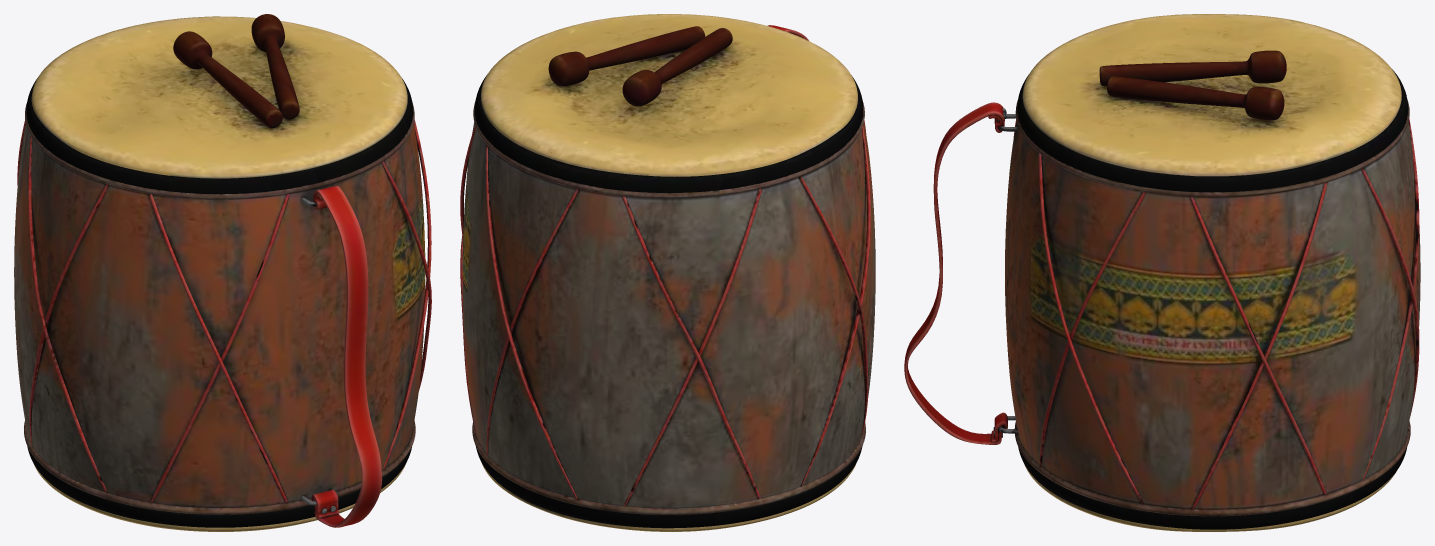
Rendered from tambua.glb.
The picture shows the model from 3 angles, left to right: view 1: azimuth 30°, elevation 25°; view 2: azimuth 150°, elevation 25°; view 3: azimuth 270°, elevation 25°; orthographic projection.
Visible parts, largest first — view 1: Object_2, Object_11, Object_3, Object_5, Object_4, Object_13; view 2: Object_2, Object_11, Object_3, Object_5, Object_13; view 3: Object_2, Object_11, Object_3, Object_5, Object_13, Object_4.
Part boxes in pixels (<box>): Object_2: <box>14,124,425,507</box>; Object_11: <box>31,16,407,531</box>; Object_3: <box>17,102,431,514</box>; Object_5: <box>26,77,413,527</box>; Object_4: <box>311,185,382,527</box>; Object_13: <box>173,14,299,128</box>; Object_2: <box>462,122,875,508</box>; Object_11: <box>481,14,857,531</box>; Object_3: <box>460,101,870,514</box>; Object_5: <box>474,74,863,528</box>; Object_13: <box>548,26,732,106</box>; Object_2: <box>1005,122,1420,509</box>; Object_11: <box>1022,14,1401,531</box>; Object_3: <box>1013,99,1419,516</box>; Object_5: <box>1017,69,1408,529</box>; Object_13: <box>1099,50,1286,120</box>; Object_4: <box>904,102,1007,444</box>.
Bounding box in the file's own units: 3.62 × 3.82 × 4.34.
7 materials, 7 textured.
